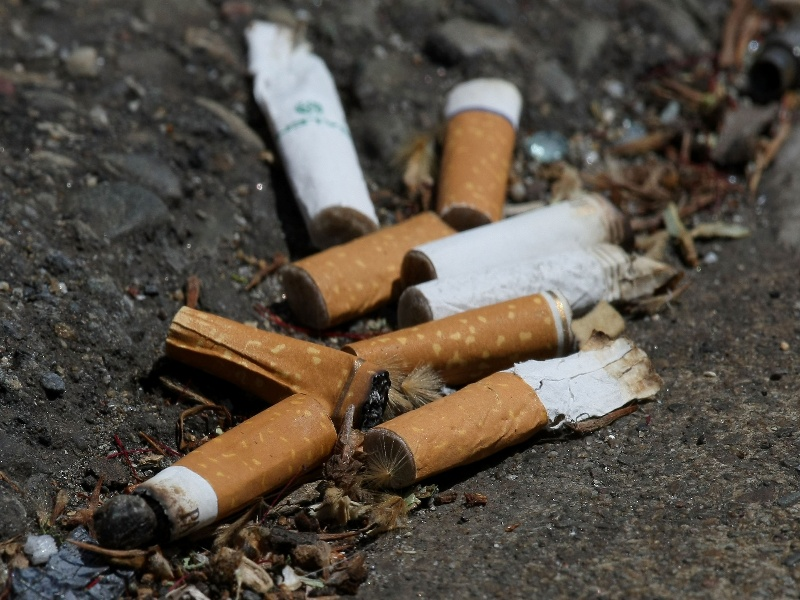Cigarette_butts_Recyc: (50, 28, 688, 546)
